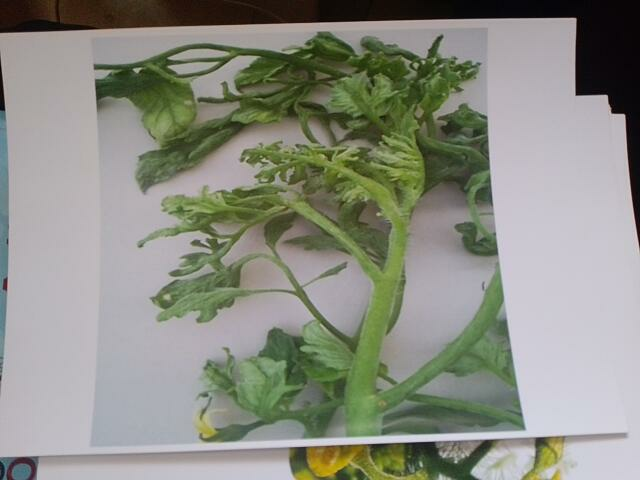Grape_Blight_Leaf: (256, 47, 547, 305)
